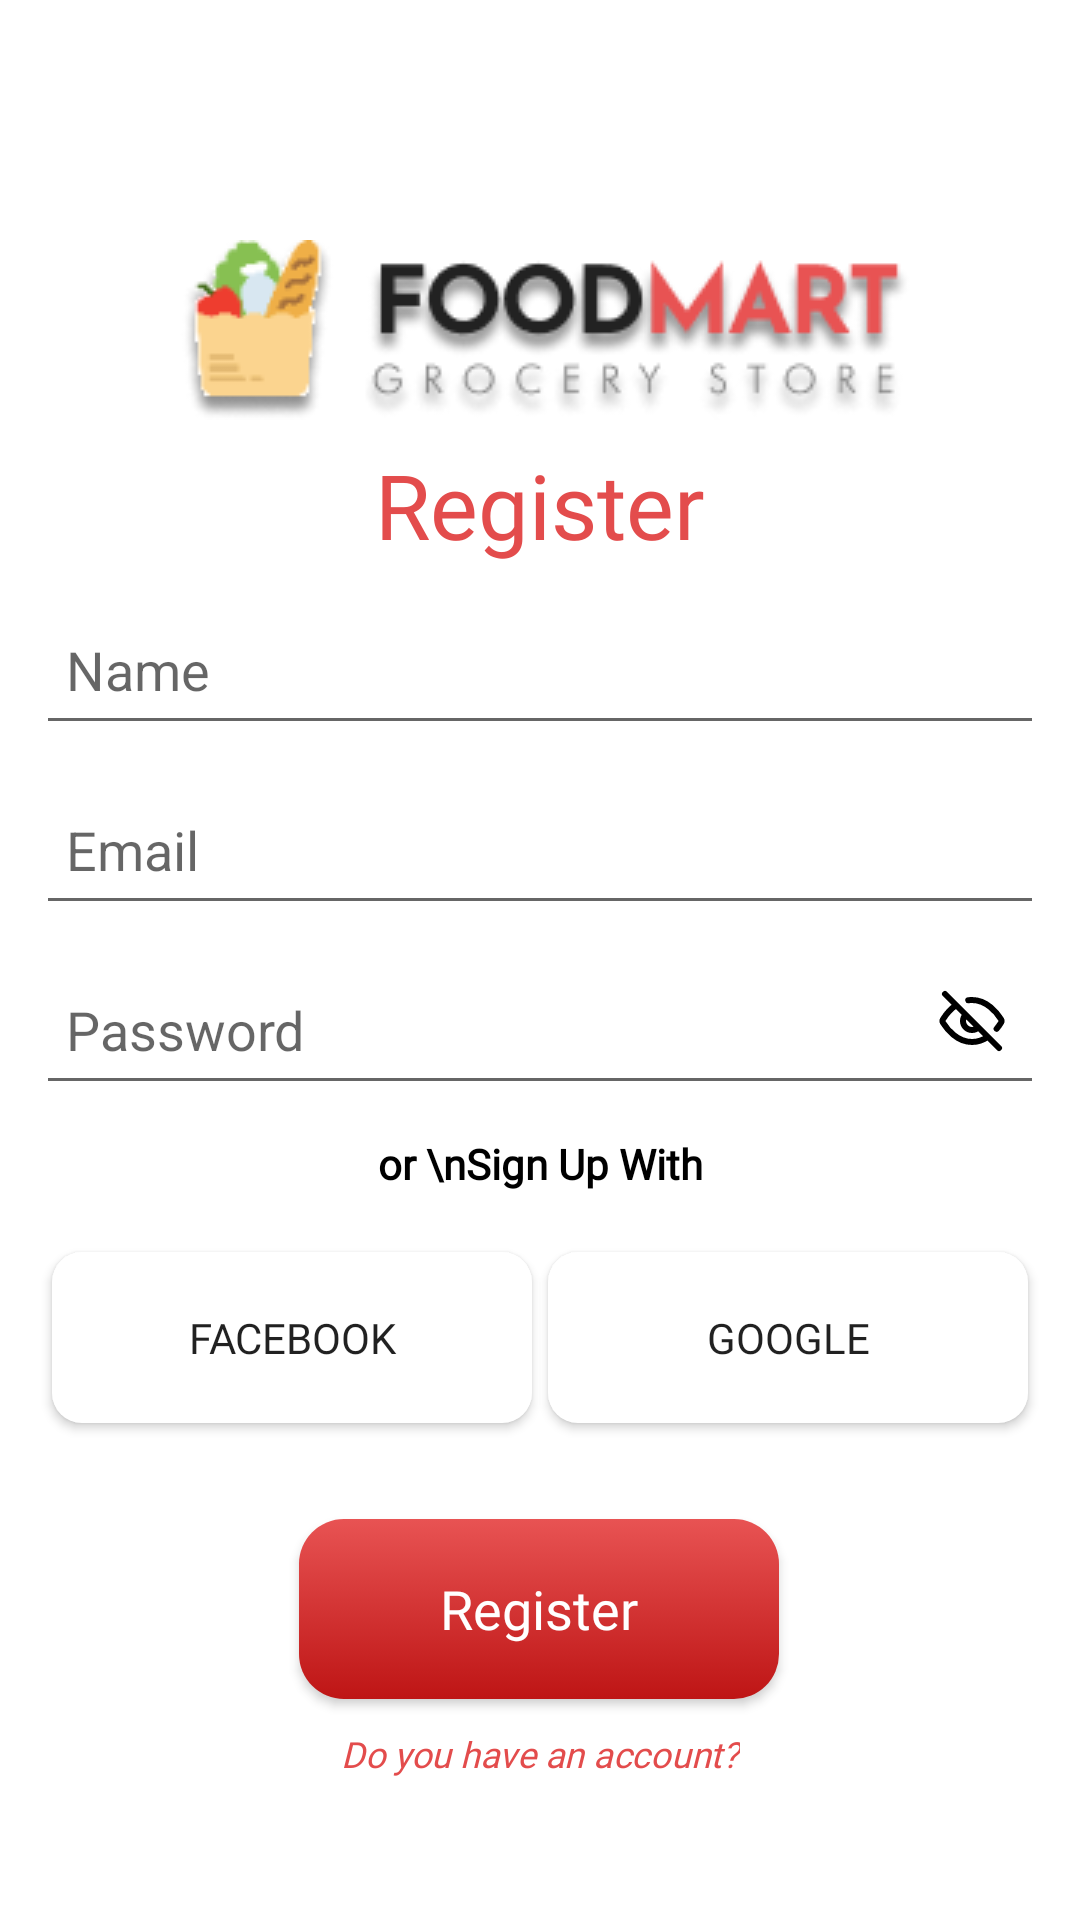

Screen size 1080×1920. Icon name, then its center in pixels as point (x, y):
hide: point (972, 1021)
